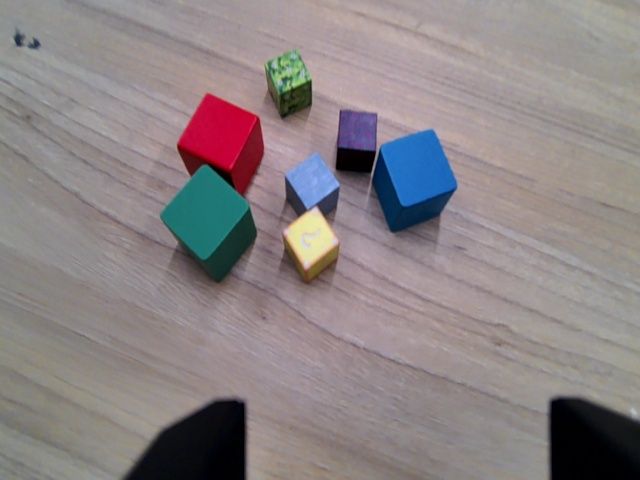brick: (337, 105, 375, 175)
grass: (264, 48, 312, 106)
lucky: (283, 210, 342, 275)
stone: (286, 151, 339, 207)
